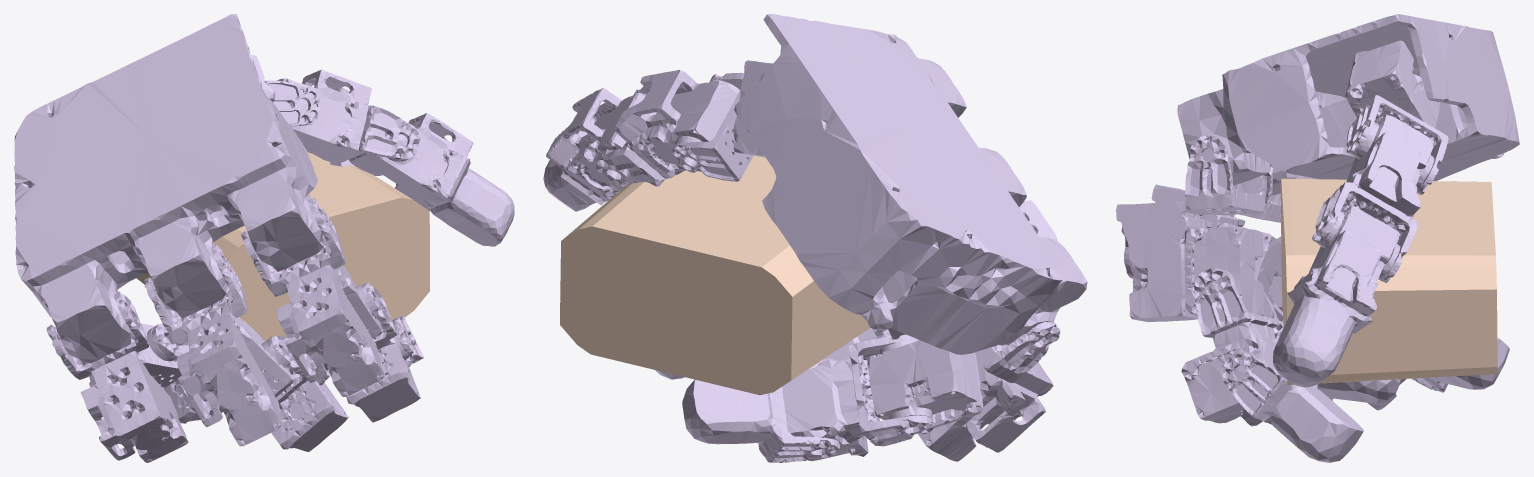
Rendered from c86c2bc4765f3d-closed.glb.
3 renders of one model, left to right at view 1: azimuth 30°, elevation 25°; view 2: azimuth 150°, elevation 25°; view 3: azimuth 270°, elevation 25°, orthographic. The views are drawn at different scales.
Parts seen in each view (by area): view 1: LEAP_hand, world; view 2: LEAP_hand, world; view 3: LEAP_hand, world.
Part boxes in pixels (left/top/right/bottom): LEAP_hand: left=14, top=14, right=514, bottom=462; world: left=136, top=152, right=430, bottom=341; LEAP_hand: left=543, top=14, right=1087, bottom=462; world: left=560, top=155, right=870, bottom=395; LEAP_hand: left=1116, top=14, right=1519, bottom=462; world: left=1280, top=178, right=1497, bottom=385.
Bounding box in the file's own units: 0.2253 × 0.1795 × 0.16.
